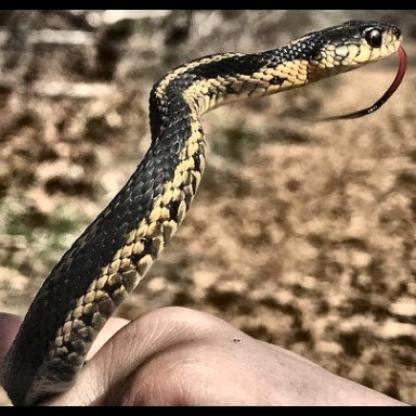Snake: (20, 17, 410, 376)
